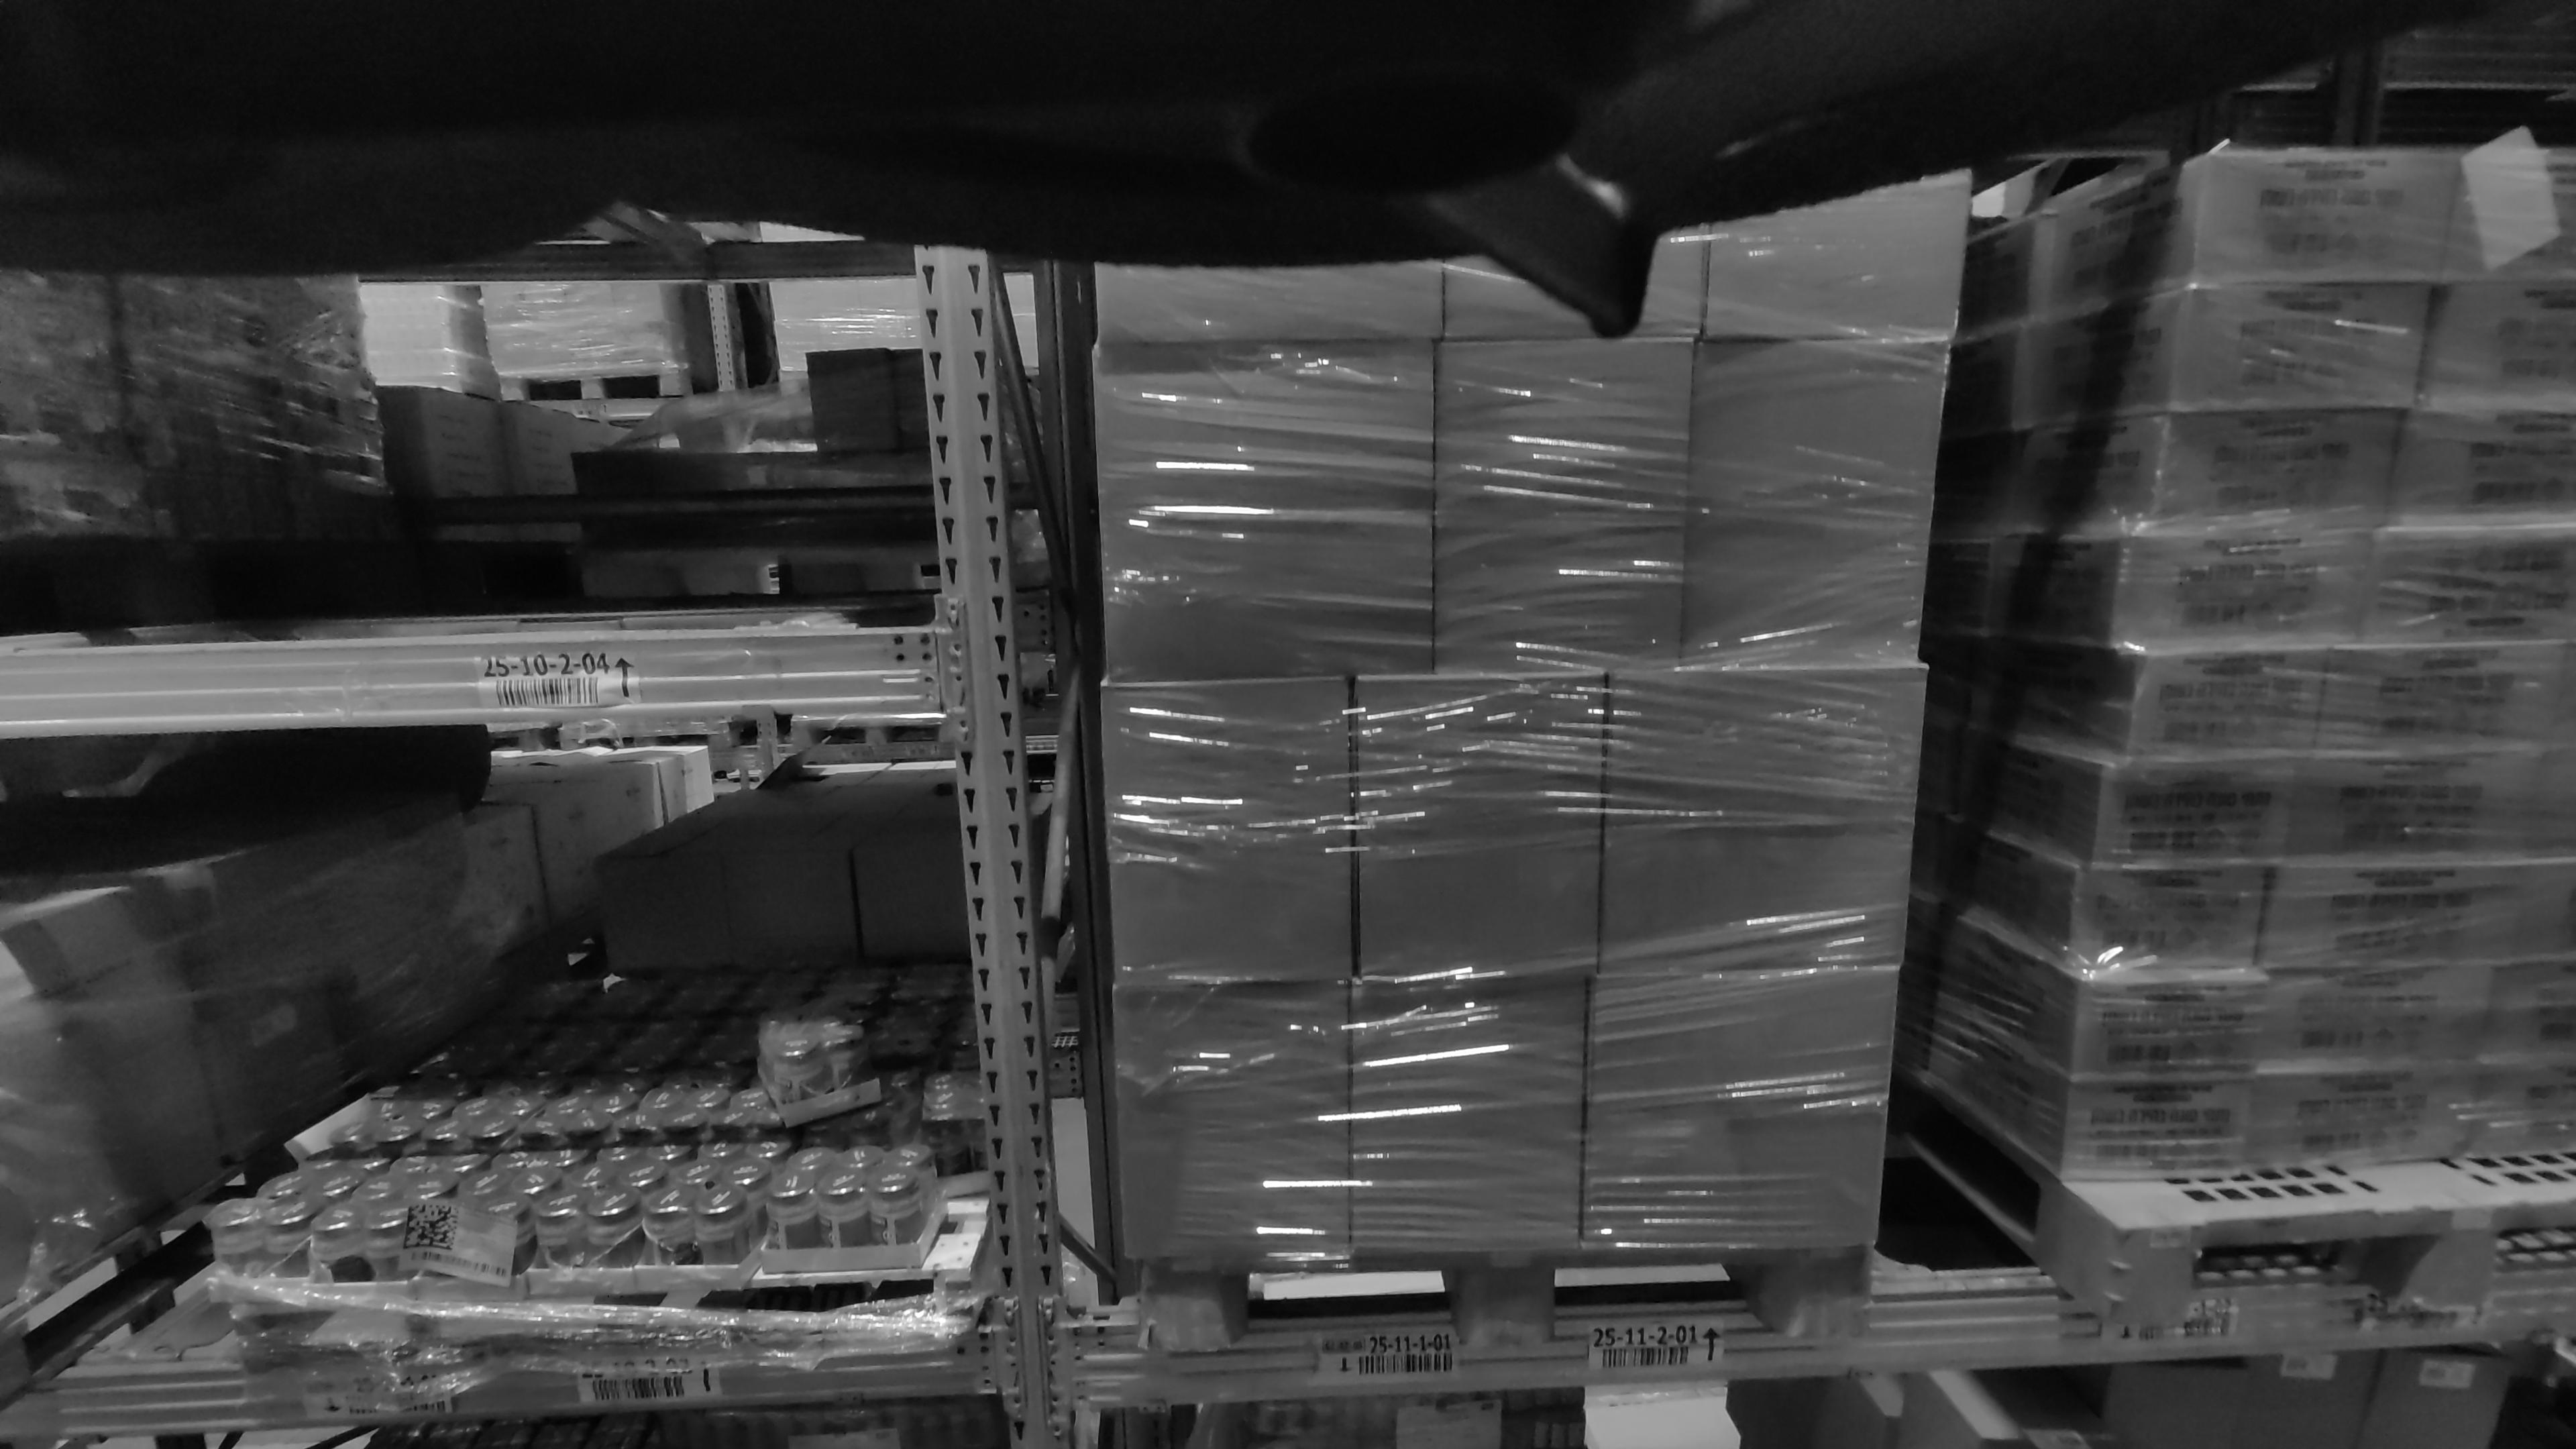empty-shelf: (124, 221, 895, 617)
